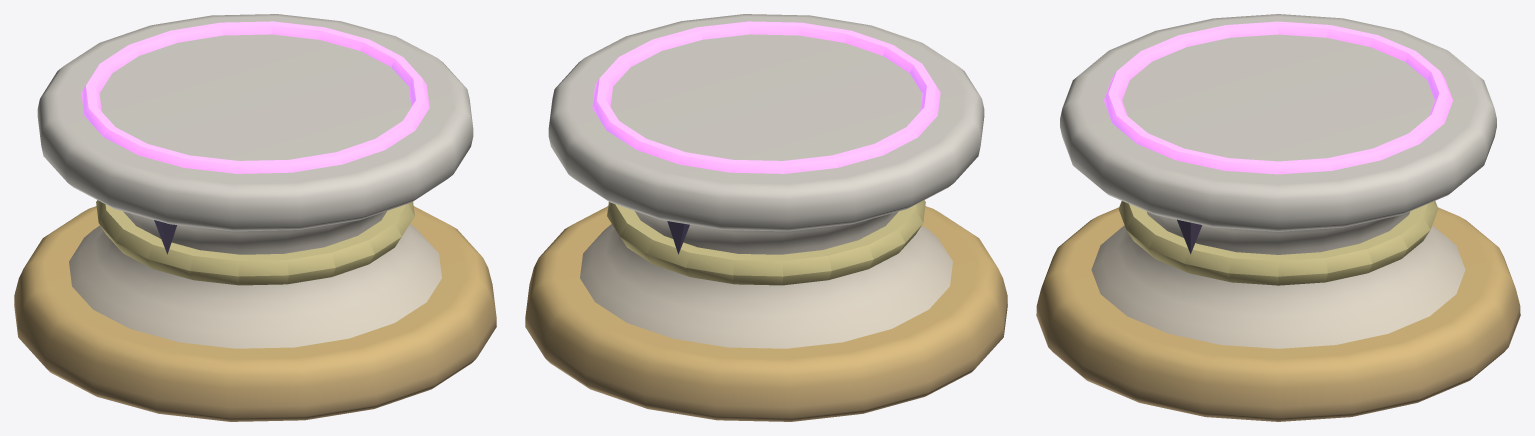
The model's file is decoyPedestal.glb.
The picture shows the model from 3 angles, left to right: view 1: azimuth 30°, elevation 25°; view 2: azimuth 150°, elevation 25°; view 3: azimuth 270°, elevation 25°; orthographic projection.
Parts seen in each view (by area): view 1: Body, Glow_7B2FF7; view 2: Body, Glow_7B2FF7; view 3: Body, Glow_7B2FF7.
Part boxes in pixels (box(x1,y1,x2,y2)): Body: box(14, 14, 496, 421); Glow_7B2FF7: box(81, 21, 429, 173); Body: box(525, 14, 1007, 421); Glow_7B2FF7: box(592, 21, 940, 173); Body: box(1036, 14, 1520, 421); Glow_7B2FF7: box(1104, 21, 1452, 174).
Size of the model in its own units: 6.87 by 3.61 by 6.87.
